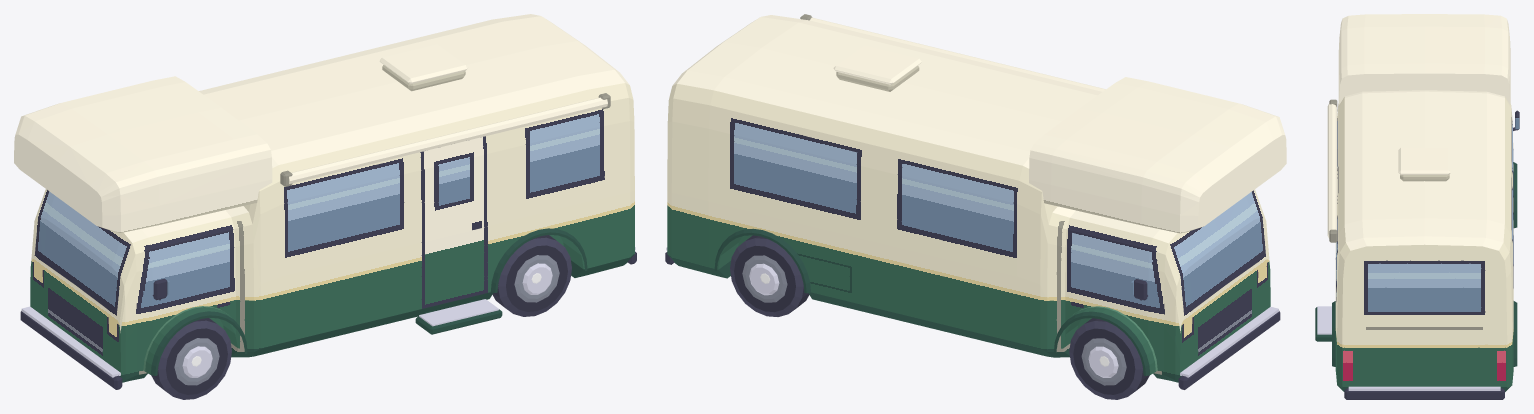
3 renders of one model, left to right at view 1: azimuth 30°, elevation 25°; view 2: azimuth 150°, elevation 25°; view 3: azimuth 270°, elevation 25°, orthographic. The views are drawn at different scales.
Parts seen in each view (by area): view 1: Body_static, Wheel_FL_tire_hub, Wheel_RL_tire_hub; view 2: Body_static, Wheel_FR_tire_hub, Wheel_RR_tire_hub; view 3: Body_static.
Boxes of the visible parts, x1,y1,x2,y2 form: Body_static: (14, 14, 636, 389); Wheel_FL_tire_hub: (151, 318, 231, 399); Wheel_RL_tire_hub: (492, 235, 571, 316); Body_static: (665, 14, 1286, 389); Wheel_FR_tire_hub: (1069, 318, 1149, 399); Wheel_RR_tire_hub: (730, 235, 808, 316); Body_static: (1315, 14, 1519, 399).
Size of the model in its own units: 122 by 52.31 by 48.74.
1 material, 1 textured.
